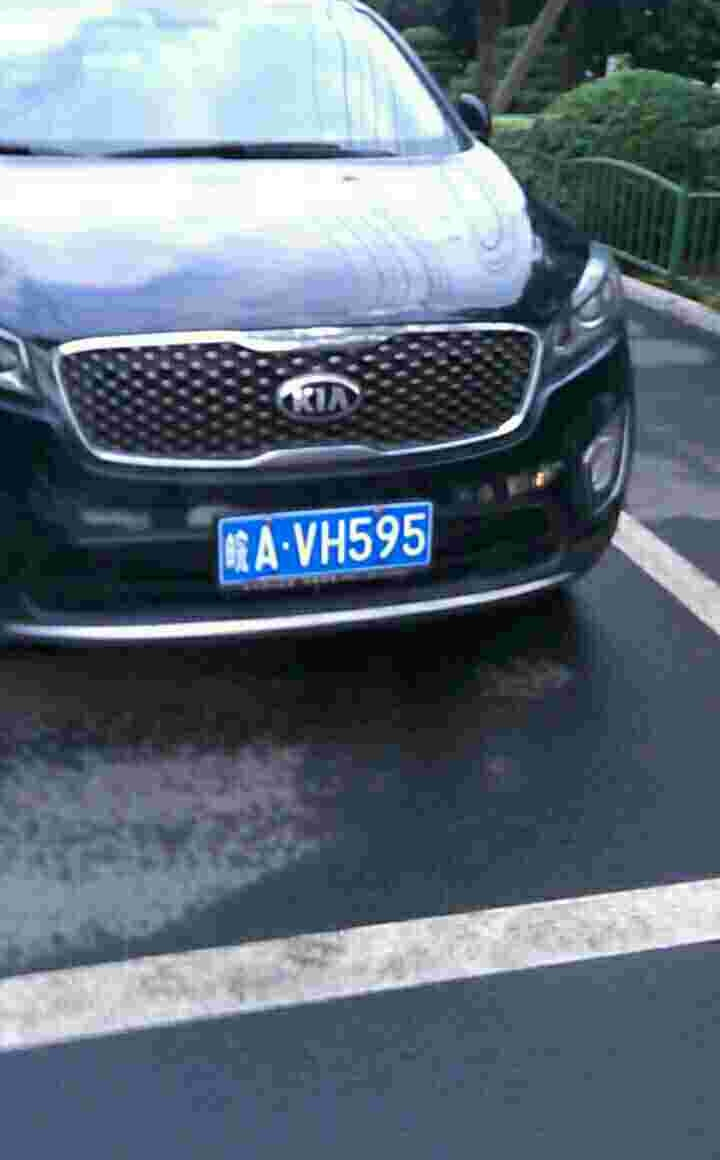license_plate: (227, 502, 440, 583)
